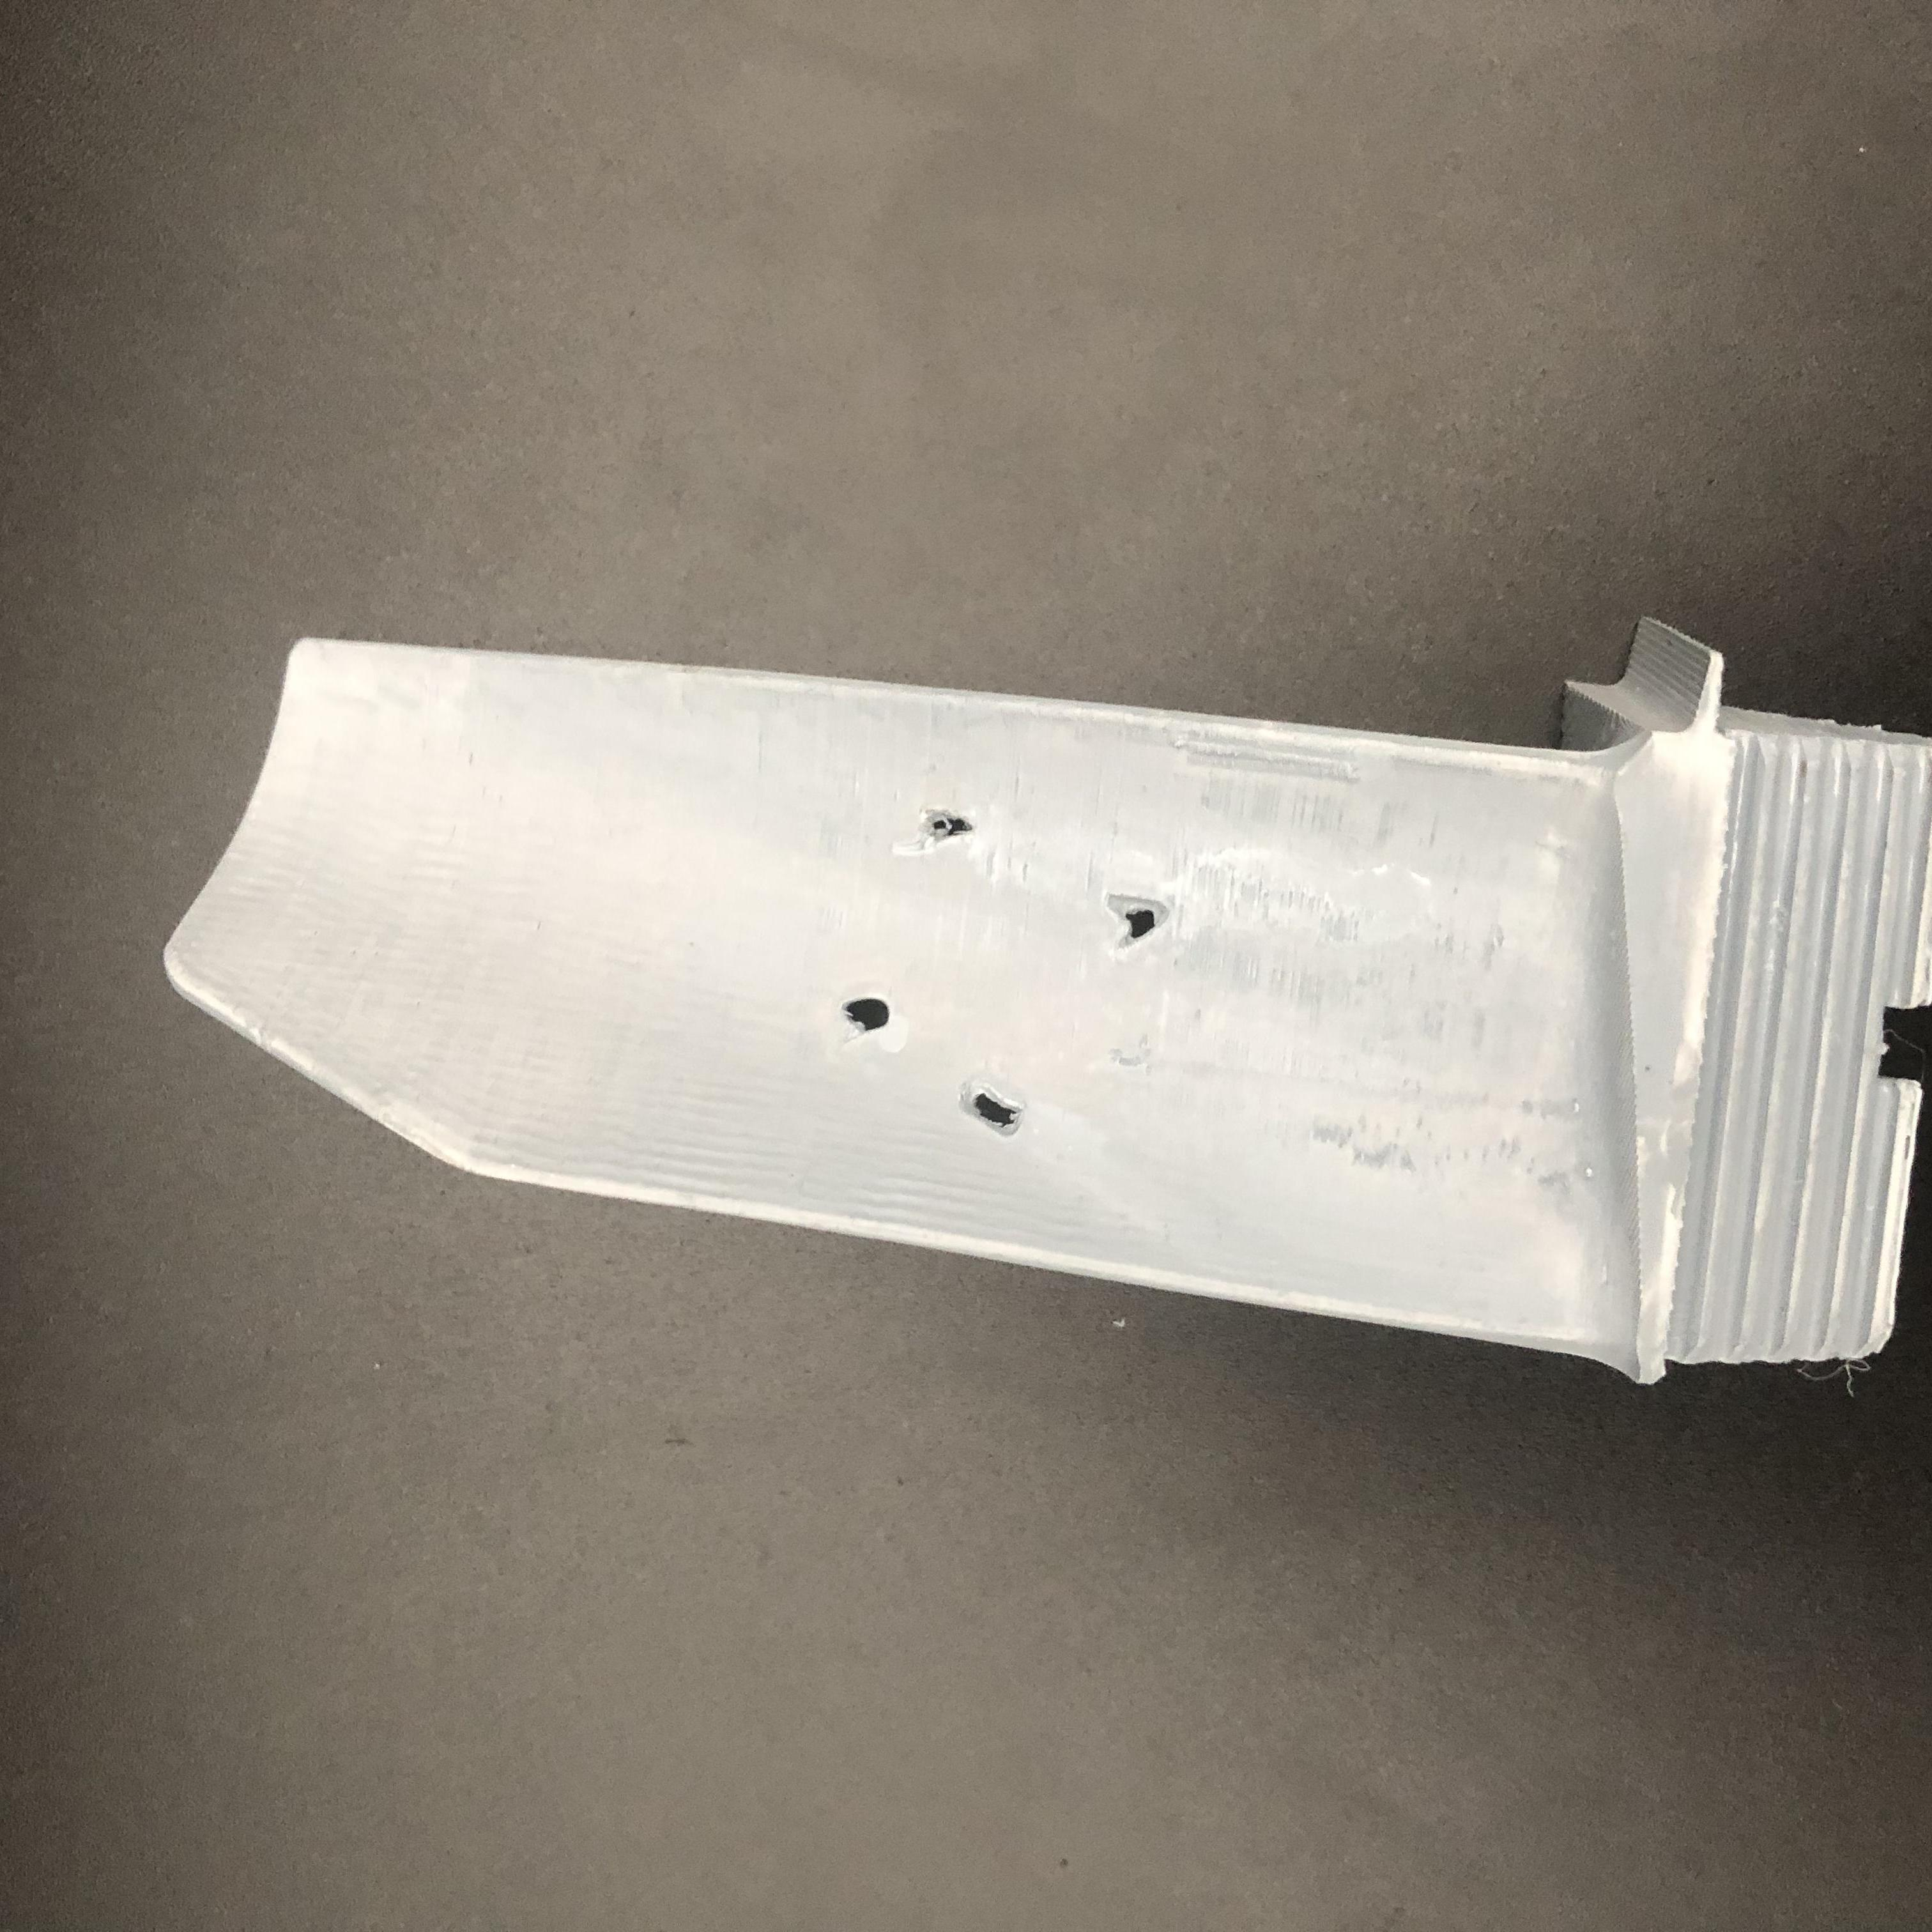breakdown: (830, 798, 1157, 1127)
